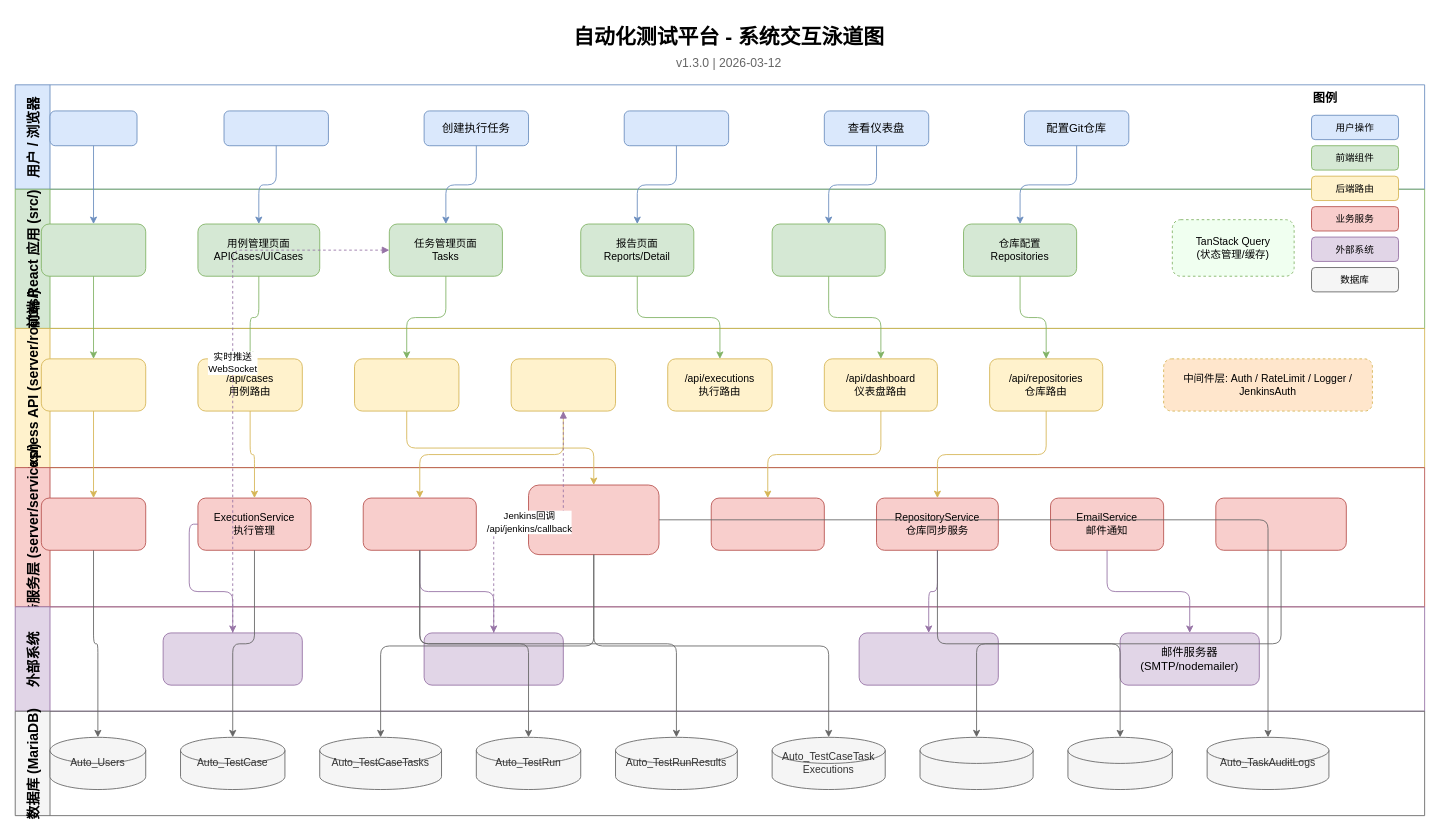
The diagram is 1440 pixels wide and 834 high, and some of its shapes have lost their labels. Each missing label, with the centre of its shape:
"/api/auth 认证路由" belongs at (x=93, y=384).
"/api/jenkins Jenkins路由" belongs at (x=563, y=384).
"/api/tasks 任务路由" belongs at (x=406, y=384).
"AuthService 认证授权" belongs at (x=93, y=523).
"Auto_Repository Configs" belongs at (x=1119, y=763).
"Auto_TestCase DailySummaries" belongs at (x=976, y=763).
"DailySummaryScheduler 每日汇总" belongs at (x=1280, y=523).
"DashboardService 仪表盘统计" belongs at (x=767, y=523).
"GitHub / GitLab (测试脚本仓库)" belongs at (x=928, y=658).
"Jenkins CI/CD (执行pytest测试)" belongs at (x=493, y=658).
"JenkinsService Jenkins集成" belongs at (x=419, y=523).
"TaskSchedulerService 任务调度引擎 (Cron/重试/补偿)" belongs at (x=593, y=519).
"WebSocket Socket.IO 推送" belongs at (x=232, y=658).
"仪表盘 Dashboard" belongs at (x=828, y=249).
"查看测试报告" belongs at (x=676, y=128).
"登录系统" belongs at (x=93, y=128).
"管理测试用例" belongs at (x=275, y=128).
"认证页面 Login/Register" belongs at (x=93, y=249).
